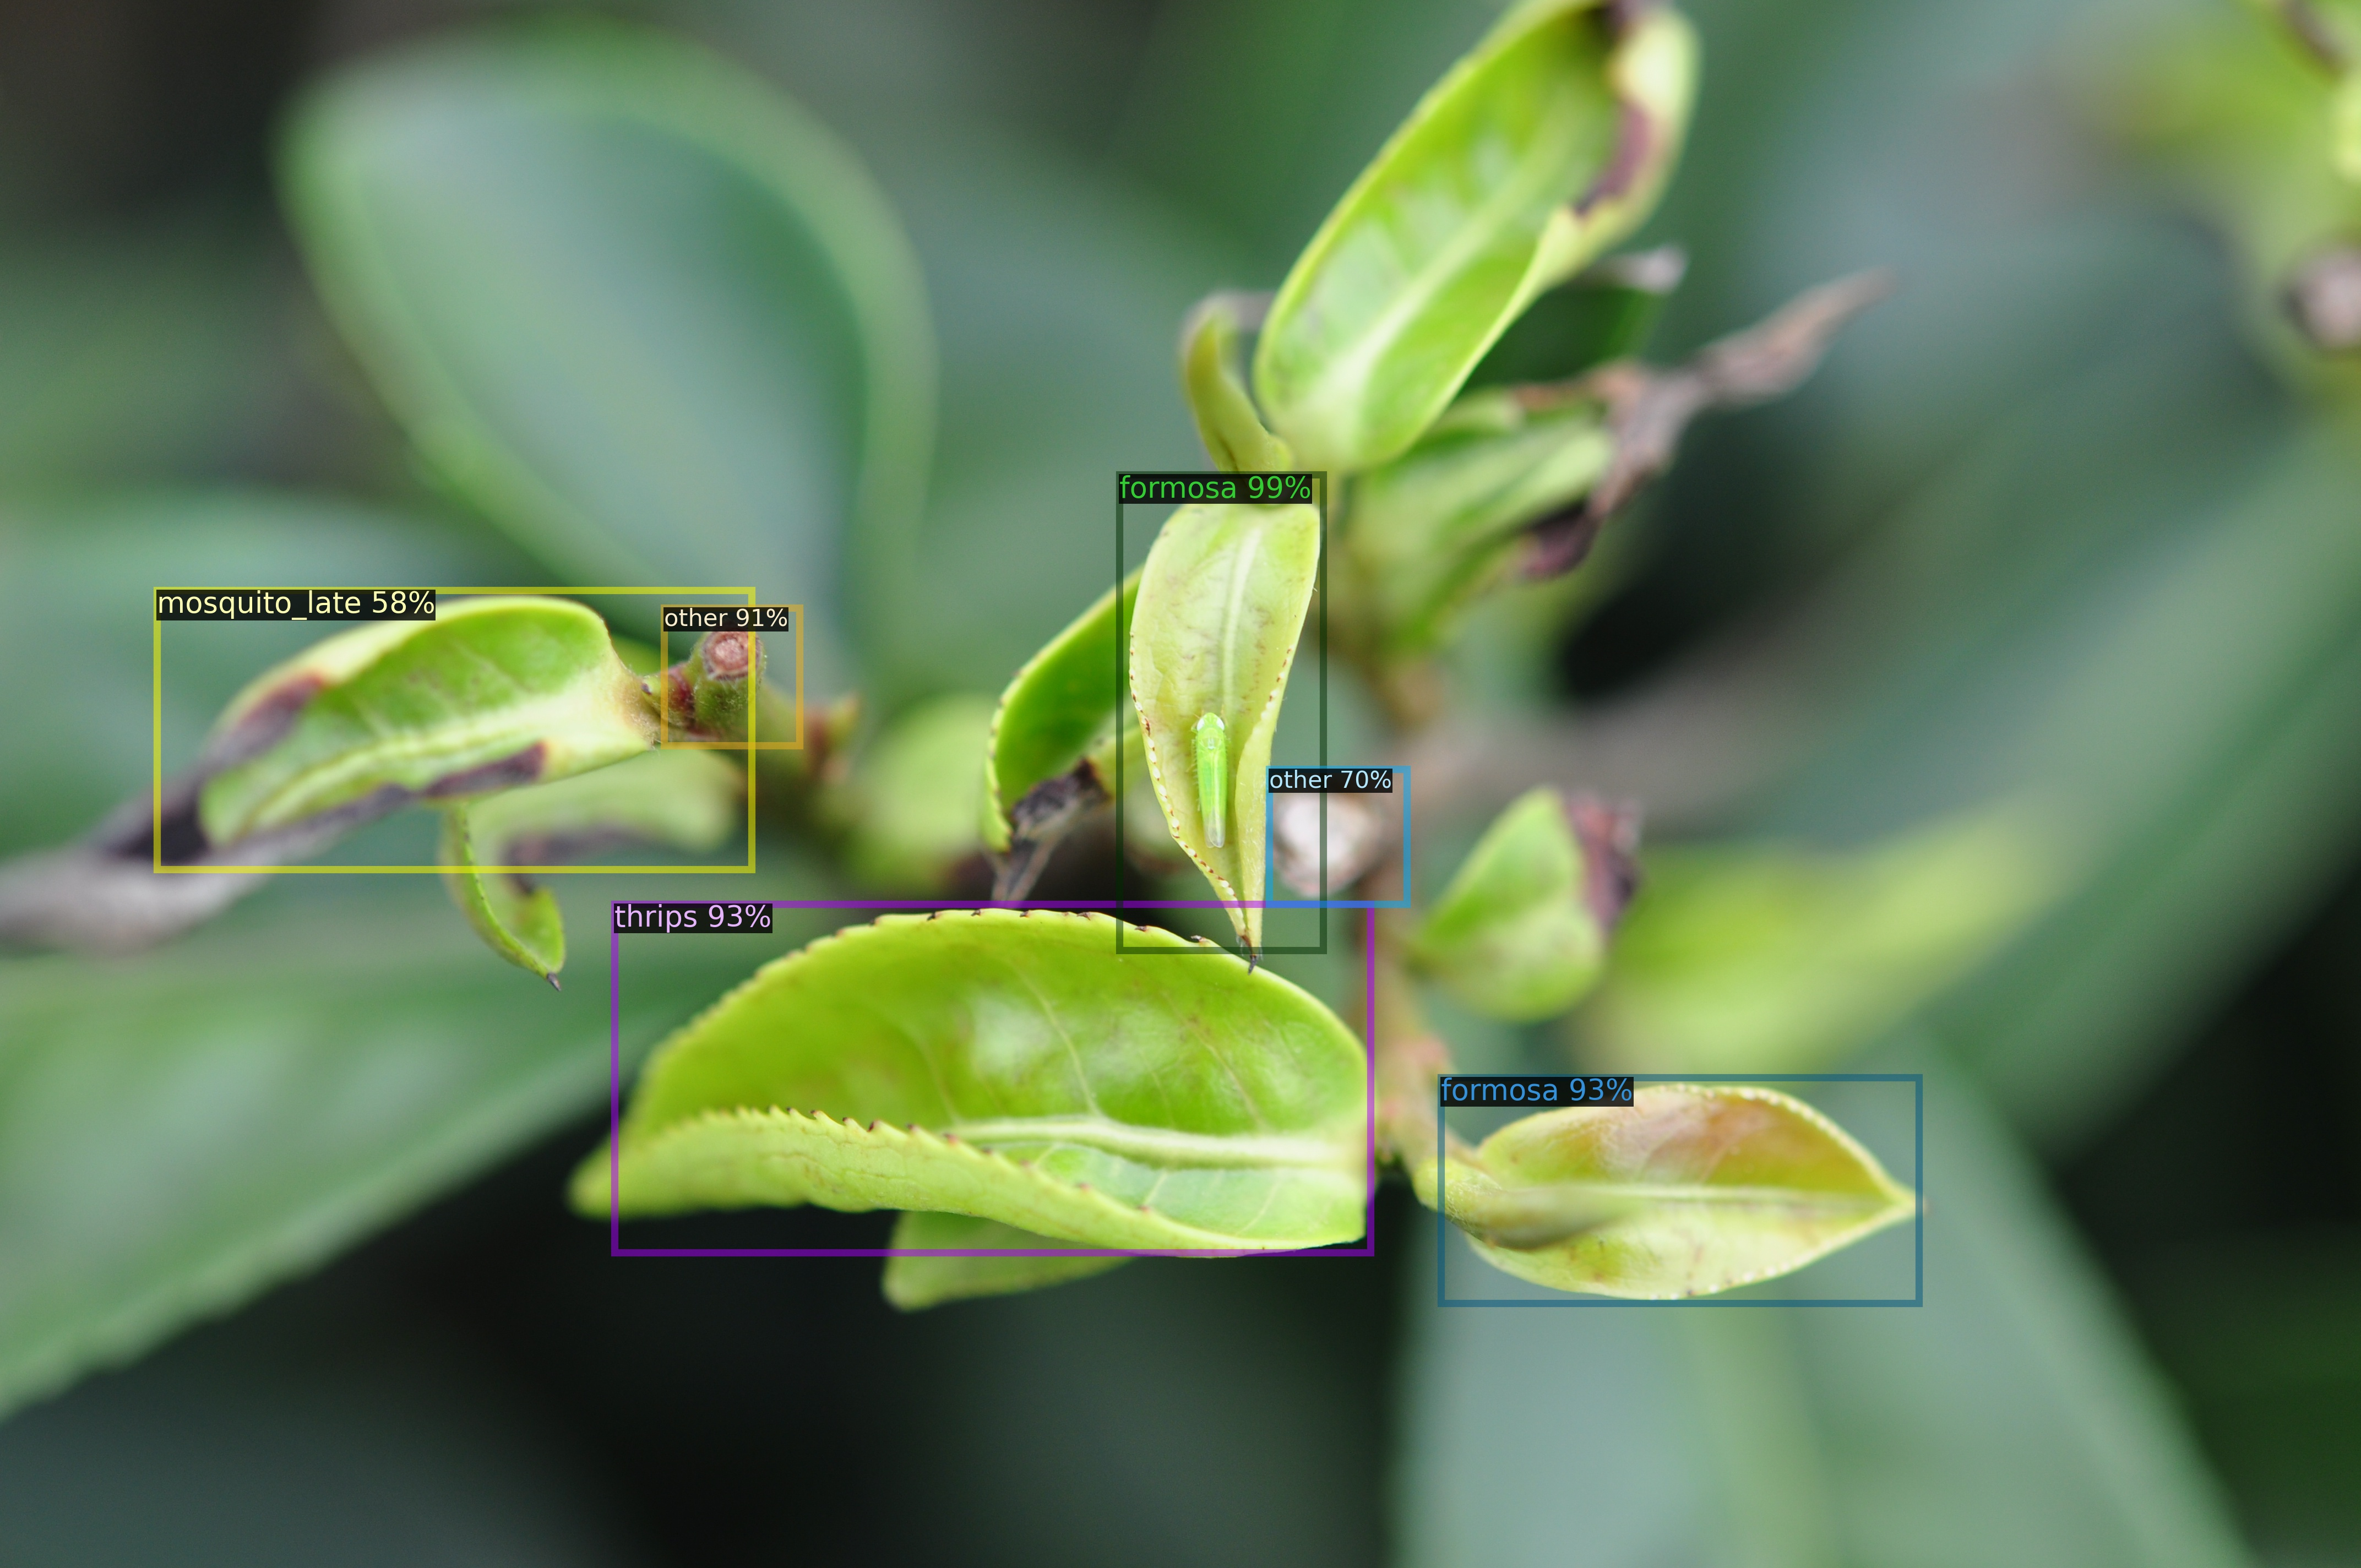formosa: (1440, 1076, 1918, 1304), (1118, 474, 1323, 950)
mosquito_late: (156, 590, 751, 870)
other: (663, 607, 800, 745), (1269, 770, 1405, 905)
thrips: (614, 903, 1370, 1251)
